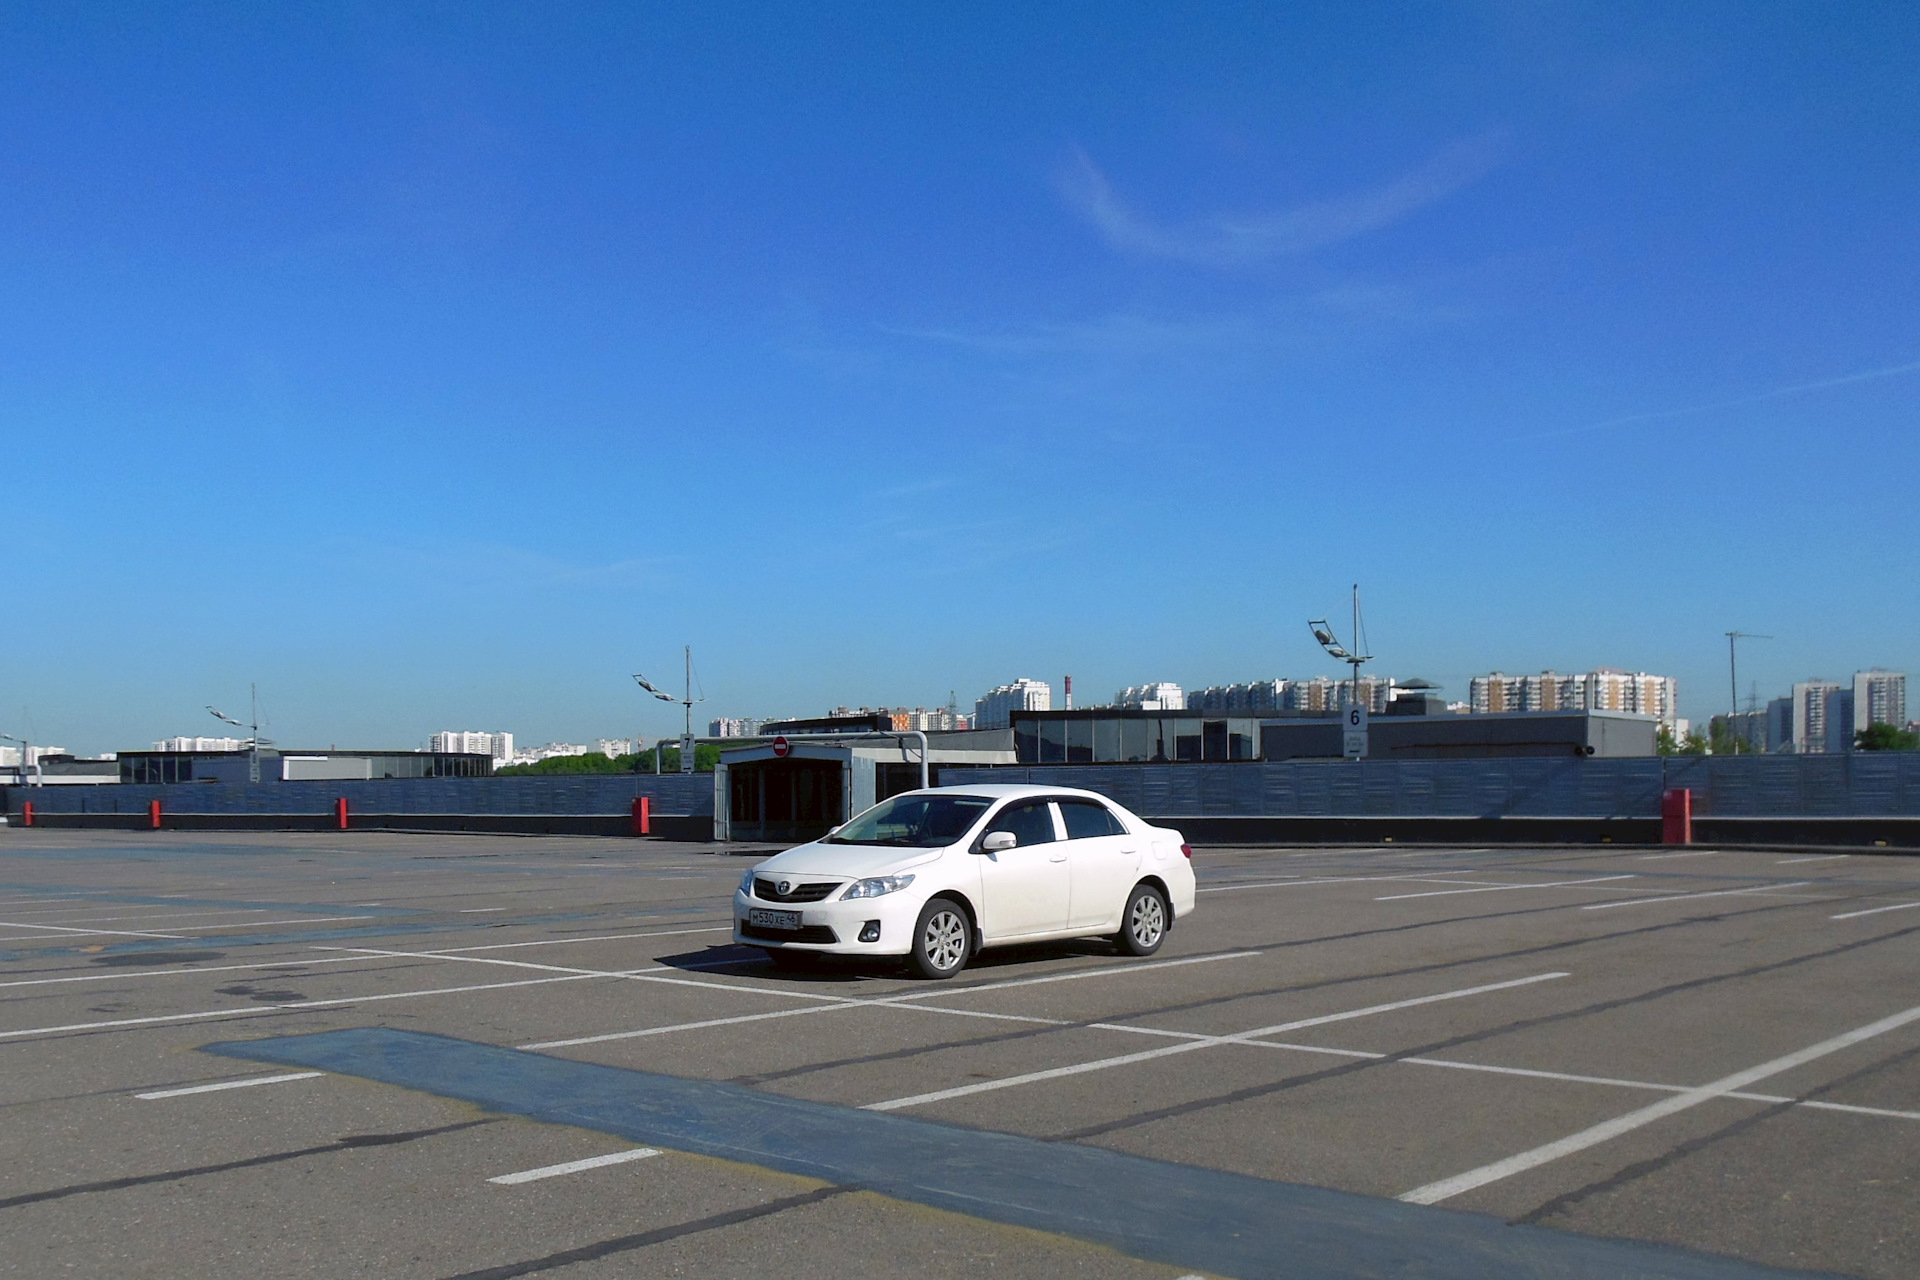Car: (734, 784, 1196, 979)
